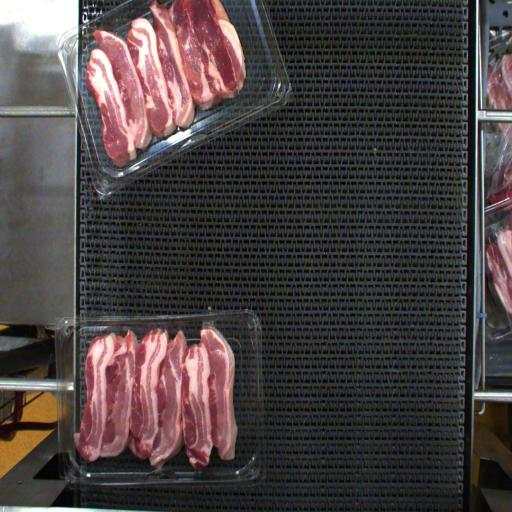packaging-error: (198, 309, 221, 334)
